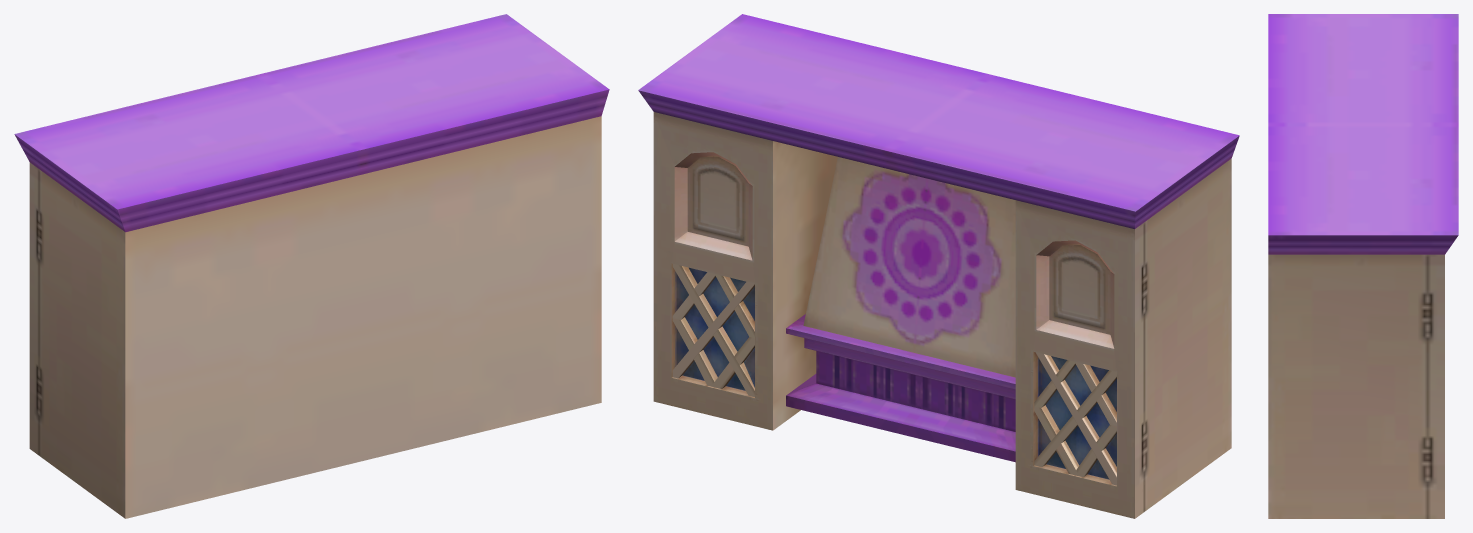
File: furni_0200016_01.FBX
The picture shows the model from 3 angles, left to right: view 1: azimuth 30°, elevation 25°; view 2: azimuth 150°, elevation 25°; view 3: azimuth 270°, elevation 25°; orthographic projection. The views are drawn at different scales.
Visible parts, largest first — view 1: furni_0200016_01; view 2: furni_0200016_01; view 3: furni_0200016_01.
Boxes of the visible parts, x1=… form: furni_0200016_01: x1=14, y1=14, x2=609, y2=518; furni_0200016_01: x1=638, y1=14, x2=1239, y2=518; furni_0200016_01: x1=1268, y1=14, x2=1458, y2=518.
Bounding box in the file's own units: 165 × 100 × 60.
